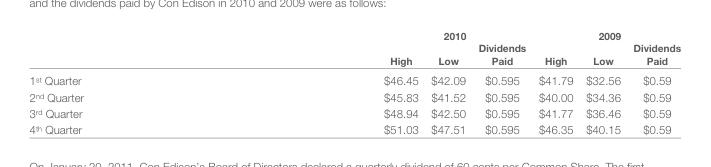table: (28, 28, 680, 135)
table column: (28, 28, 233, 135), (233, 28, 424, 135), (471, 28, 531, 135), (626, 28, 680, 135), (578, 28, 626, 135), (424, 28, 471, 135), (531, 28, 578, 135)
table column header: (28, 28, 680, 69)
table row: (28, 41, 680, 69), (28, 69, 680, 88), (28, 88, 680, 104), (28, 104, 680, 120), (28, 120, 680, 135), (28, 28, 680, 41)
table spanning cell: (233, 28, 531, 41), (531, 28, 680, 41)
